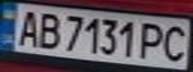1: (78, 15, 103, 54), (115, 18, 139, 58)
3: (100, 16, 121, 56)
7: (60, 12, 84, 52)
A: (12, 7, 42, 47)
B: (33, 10, 63, 49)
C: (157, 22, 193, 63)
P: (136, 20, 169, 61)
